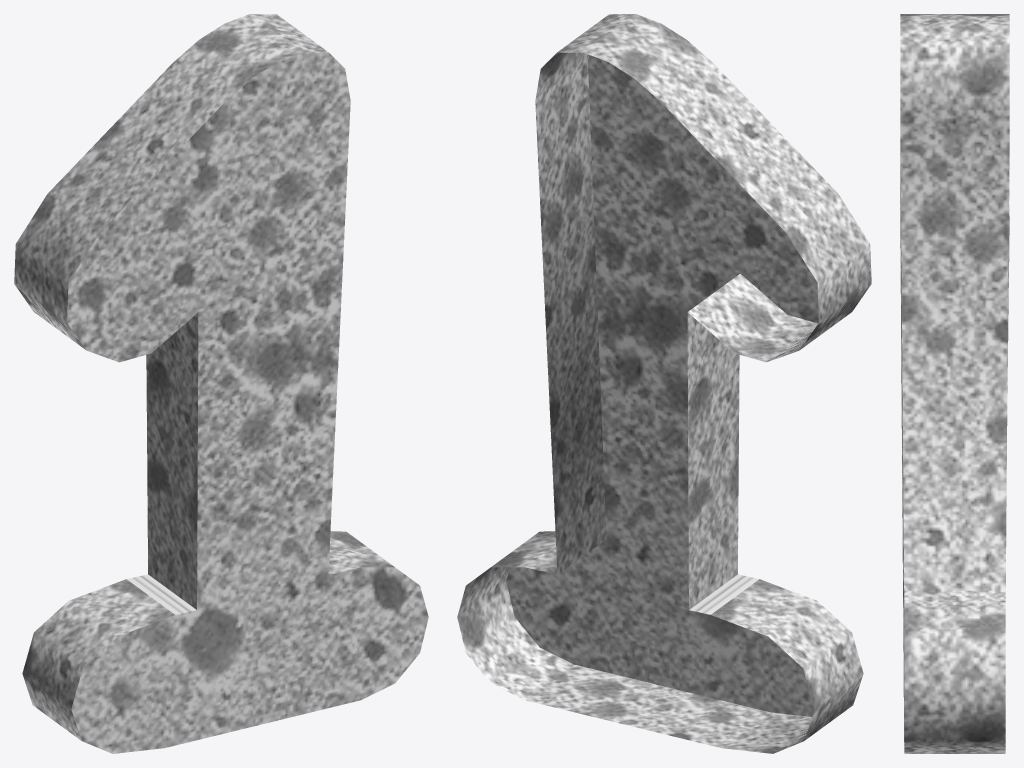
Rendered from Uno.FBX.
The picture shows the model from 3 angles, left to right: view 1: azimuth 30°, elevation 25°; view 2: azimuth 150°, elevation 25°; view 3: azimuth 270°, elevation 25°; orthographic projection. The views are drawn at different scales.
Parts seen in each view (by area): view 1: Uno; view 2: Uno; view 3: Uno.
Part boxes in pixels (bbox=[...]): Uno: bbox=[14, 14, 428, 753]; Uno: bbox=[457, 14, 871, 753]; Uno: bbox=[900, 14, 1009, 753].
Size of the model in its own units: 1.04 by 1.81 by 0.2605.
